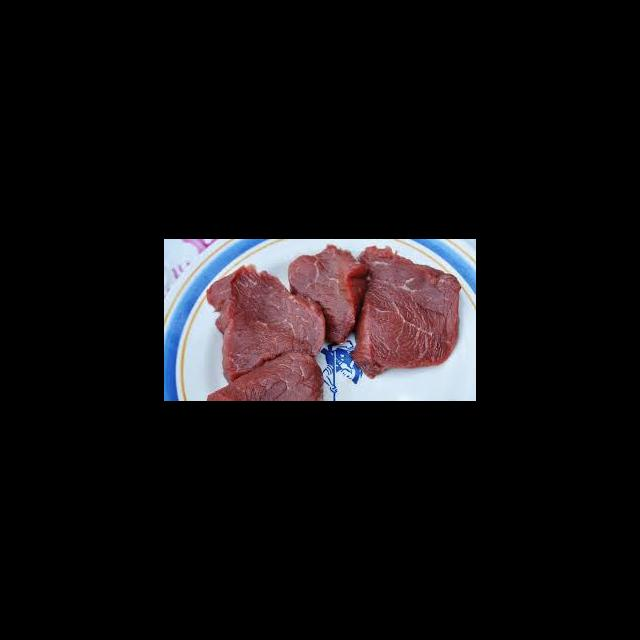beef: (353, 247, 462, 378), (208, 266, 326, 382), (289, 245, 368, 344), (208, 352, 323, 401)
